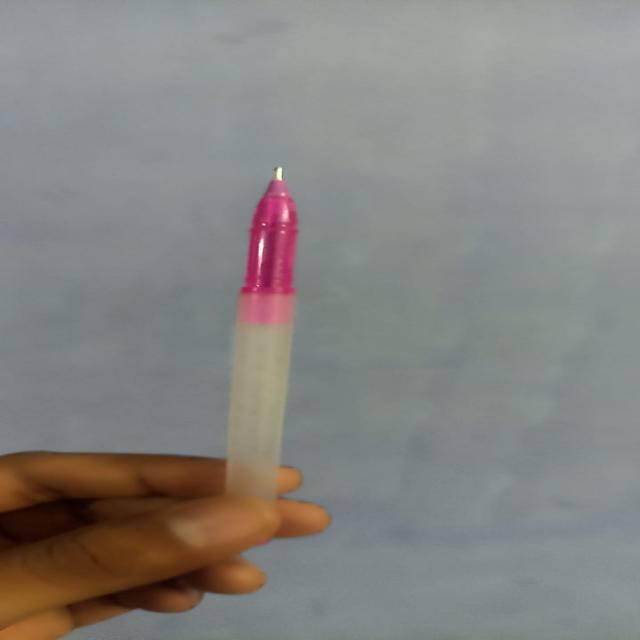pen: (209, 163, 325, 543)
